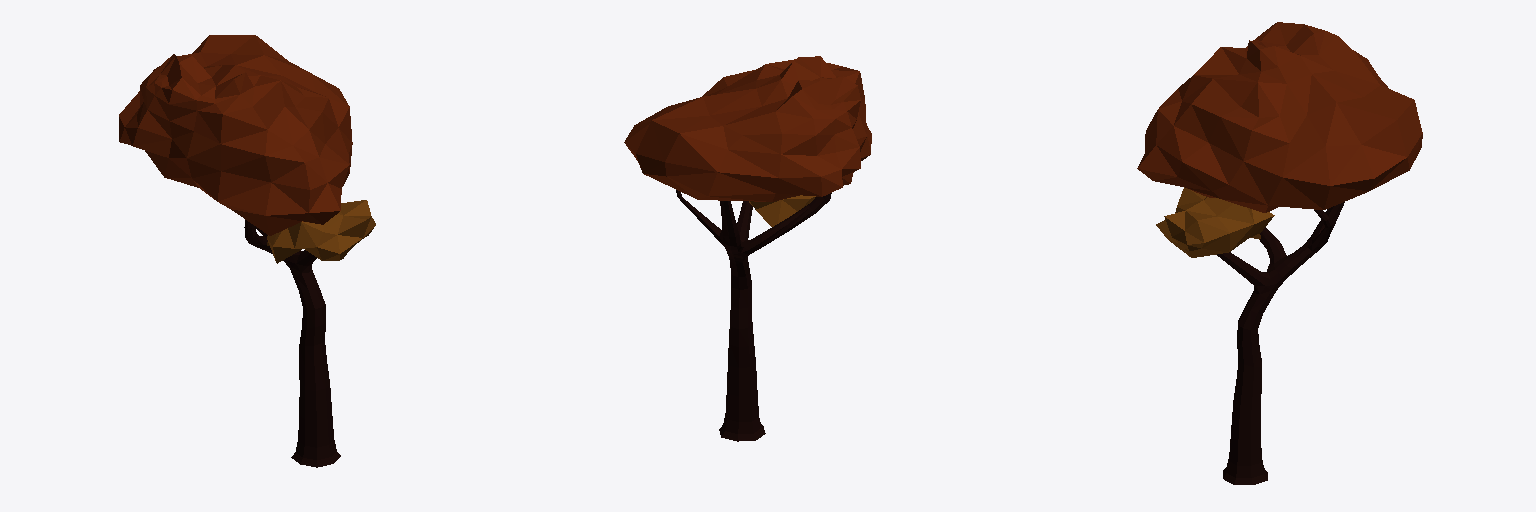
The model's file is CommonTree_Autumn_4_Cube.obj.
3 renders of one model, left to right at view 1: azimuth 30°, elevation 25°; view 2: azimuth 150°, elevation 25°; view 3: azimuth 270°, elevation 25°, orthographic.
Parts seen in each view (by area): view 1: CommonTree_Autumn_4_Cube.098; view 2: CommonTree_Autumn_4_Cube.098; view 3: CommonTree_Autumn_4_Cube.098.
Boxes of the visible parts, x1=… form: CommonTree_Autumn_4_Cube.098: x1=119, y1=35, x2=375, y2=467; CommonTree_Autumn_4_Cube.098: x1=624, y1=56, x2=871, y2=441; CommonTree_Autumn_4_Cube.098: x1=1137, y1=22, x2=1422, y2=484.
Size of the model in its own units: 1.58 by 2.78 by 1.8.